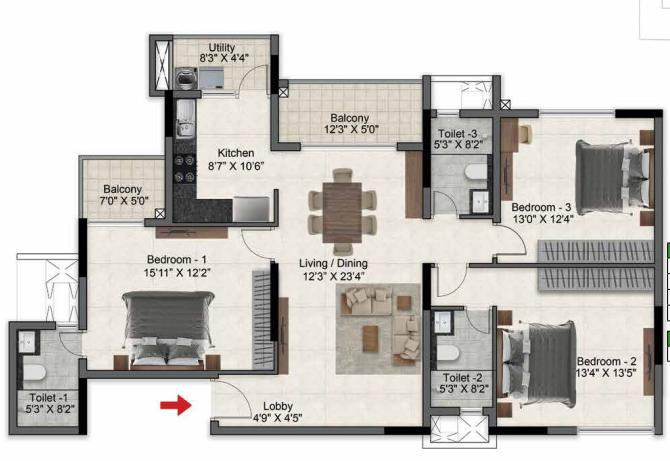Balcony: (270, 84, 423, 145), (82, 160, 166, 223)
Bedroom: (85, 226, 274, 376), (492, 267, 659, 427), (499, 116, 658, 265), (497, 320, 577, 402), (125, 290, 207, 370), (577, 142, 658, 216)
Dining Room: (277, 151, 422, 278)
Dining table: (306, 168, 381, 256)
Kitchen: (165, 95, 276, 223)
Living Room: (271, 274, 423, 429)
Sofa: (338, 285, 393, 315), (389, 313, 422, 360)
Wardrobe: (538, 265, 654, 290), (536, 241, 654, 265), (250, 271, 275, 370)
commode: (19, 365, 46, 380), (437, 346, 460, 361), (465, 165, 486, 179)
door: (213, 381, 252, 417), (240, 229, 275, 262), (237, 63, 269, 95), (497, 225, 529, 256), (436, 269, 469, 299), (432, 188, 459, 217), (58, 332, 85, 357), (464, 310, 489, 336)
fridge: (234, 196, 270, 221)
kitchen-slab: (173, 99, 198, 222), (173, 198, 232, 225)
lobby: (213, 384, 284, 432)
sink: (173, 99, 196, 138), (16, 331, 38, 355), (432, 311, 453, 333), (473, 191, 489, 213)
stove: (172, 155, 196, 184)
toilet: (11, 327, 86, 432), (426, 113, 495, 218), (427, 308, 495, 412)
tv: (500, 117, 514, 201), (155, 225, 226, 241), (275, 296, 288, 371), (642, 327, 656, 395)
utility: (169, 36, 272, 95)
washing-machine: (175, 67, 198, 89)
